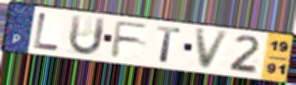2: (227, 34, 261, 75)
F: (108, 20, 151, 59)
L: (32, 11, 62, 52)
T: (155, 25, 183, 65)
U: (67, 13, 108, 57)
V: (194, 27, 232, 71)
